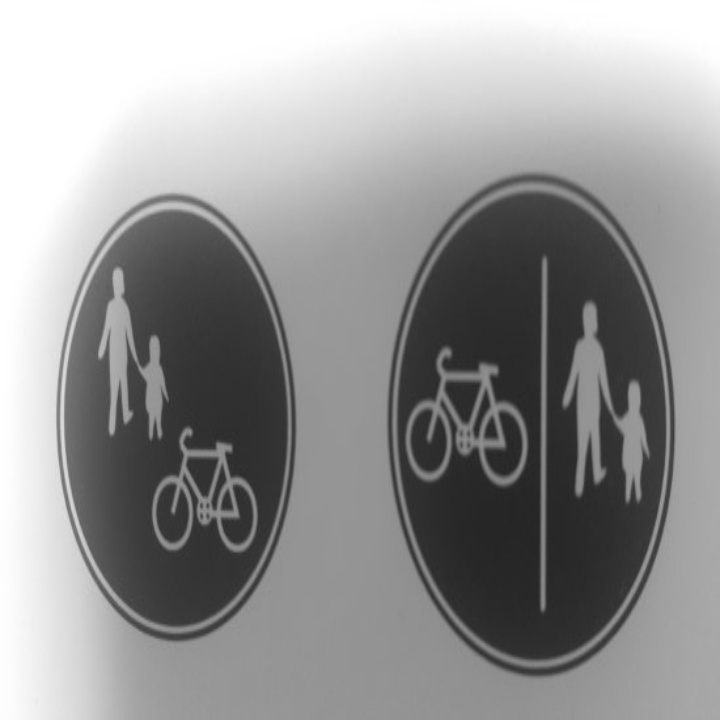bicycle: (391, 337, 539, 499), (129, 411, 279, 567)
